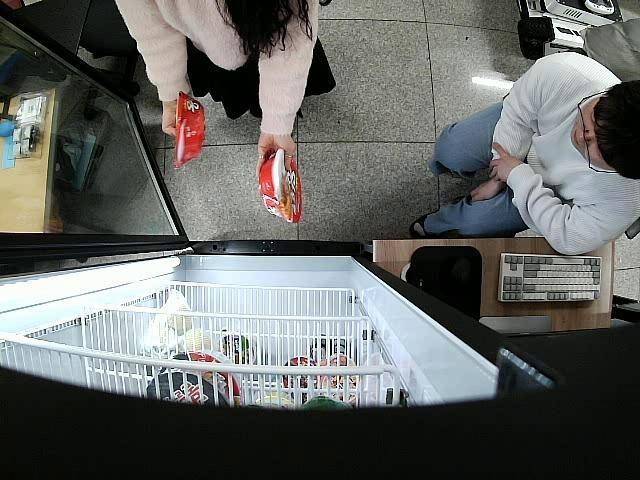10_wangTtukkeong: (258, 146, 303, 224), (172, 88, 206, 170)
